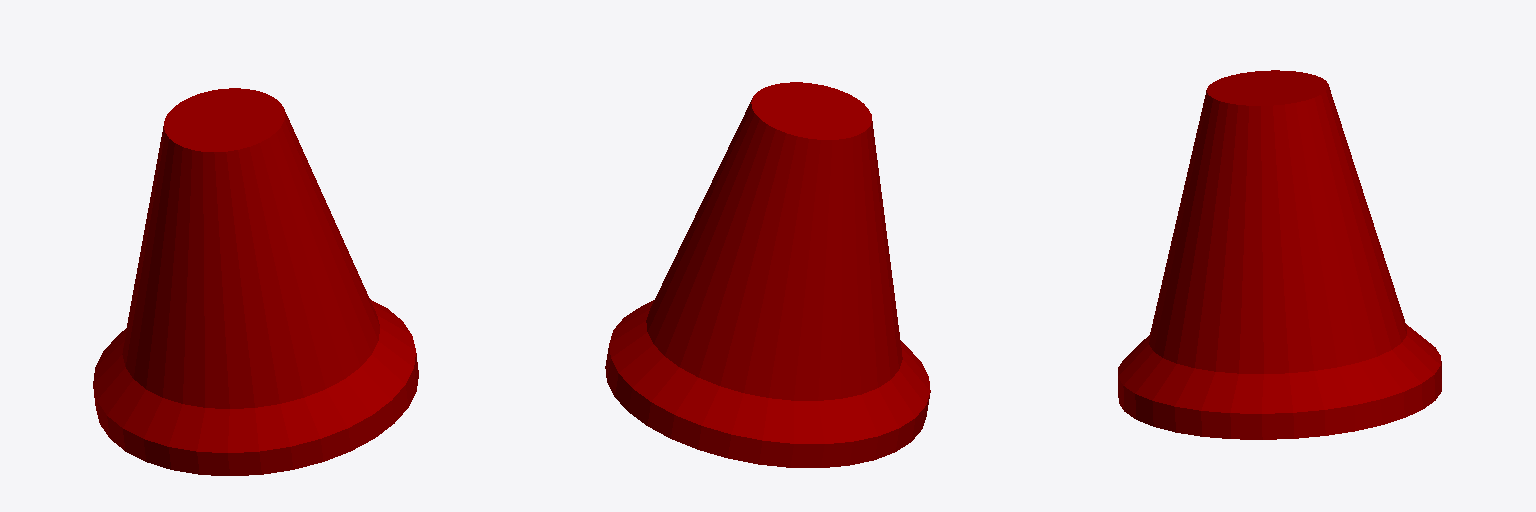
The model's file is cono.obj.
The picture shows the model from 3 angles: view 1: azimuth 30°, elevation 25°; view 2: azimuth 150°, elevation 25°; view 3: azimuth 270°, elevation 25°; orthographic projection.
Visible parts, largest first — view 1: Cylinder.001; view 2: Cylinder.001; view 3: Cylinder.001.
Part boxes in pixels (bbox=[...]): Cylinder.001: bbox=[93, 88, 418, 475]; Cylinder.001: bbox=[605, 82, 930, 467]; Cylinder.001: bbox=[1118, 70, 1441, 439].
Size of the model in its own units: 1.34 by 1.44 by 1.34.